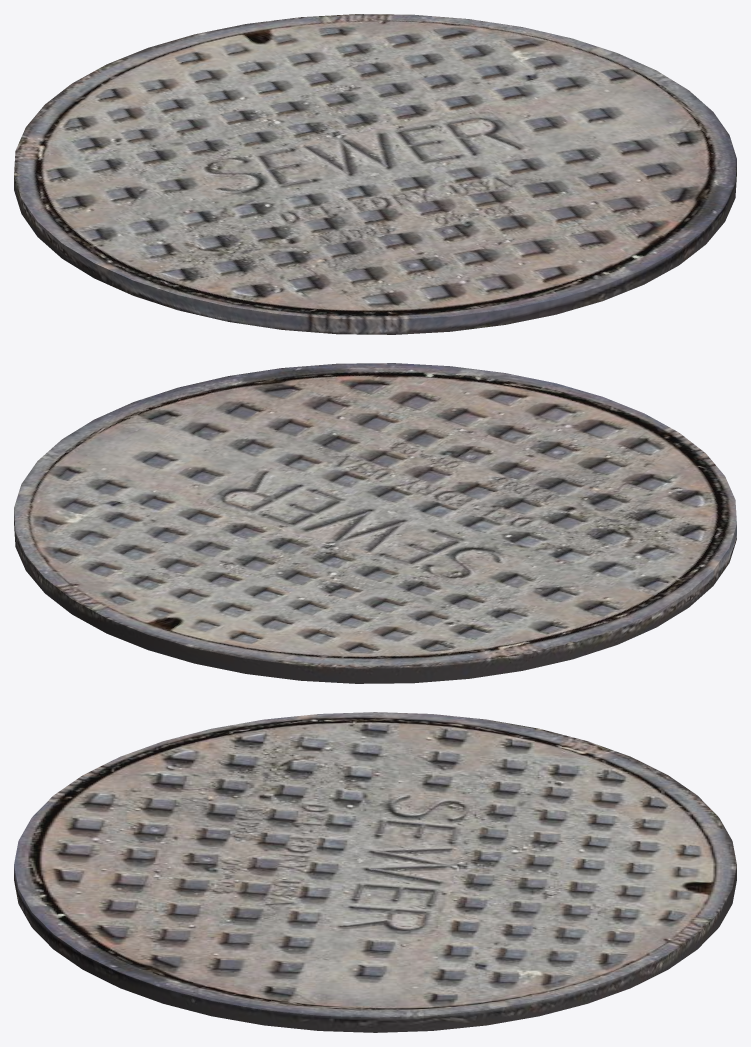
The model's file is mh_pack.glb.
The picture shows the model from 3 angles, top to bottom: view 1: azimuth 30°, elevation 25°; view 2: azimuth 150°, elevation 25°; view 3: azimuth 270°, elevation 25°; orthographic projection.
Visible parts, largest first — view 1: Manhole_w; view 2: Manhole_w; view 3: Manhole_w.
Boxes of the visible parts, left/top/right/bottom form: Manhole_w: left=14, top=14, right=736, bottom=334; Manhole_w: left=14, top=363, right=736, bottom=683; Manhole_w: left=14, top=712, right=736, bottom=1032.
Size of the model in its own units: 0.7774 by 0.0181 by 0.7774.
1 material, 1 textured.
